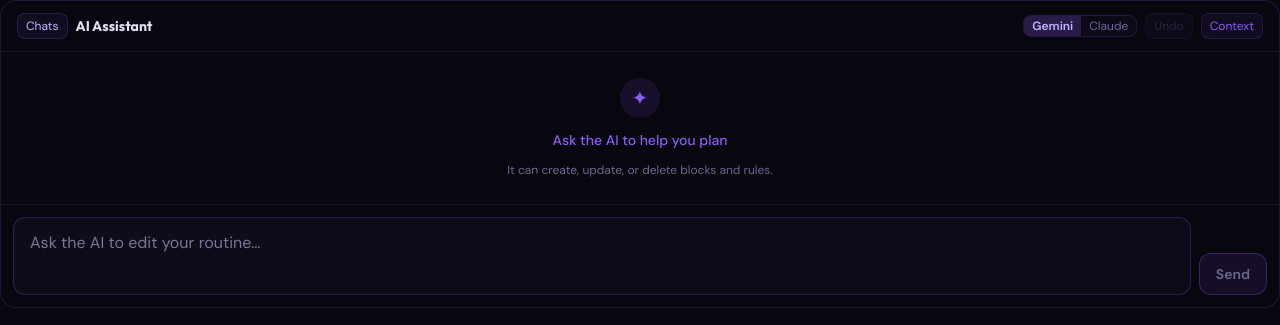
Test: ChatPanel › shows a streaming assistant bubble after sending
The width and height of the screenshot is (1280, 325).
Type "Help me plan" into the text box named "message input" at (602, 256), box [13,217,1191,295]
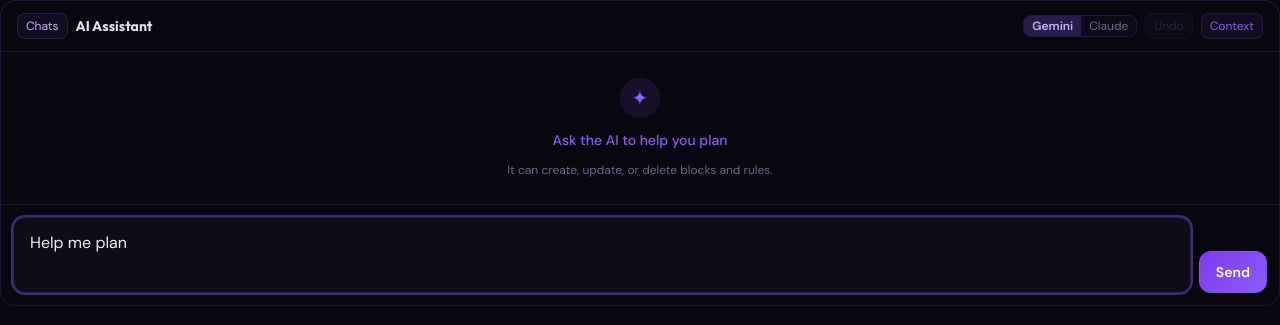
Press Enter
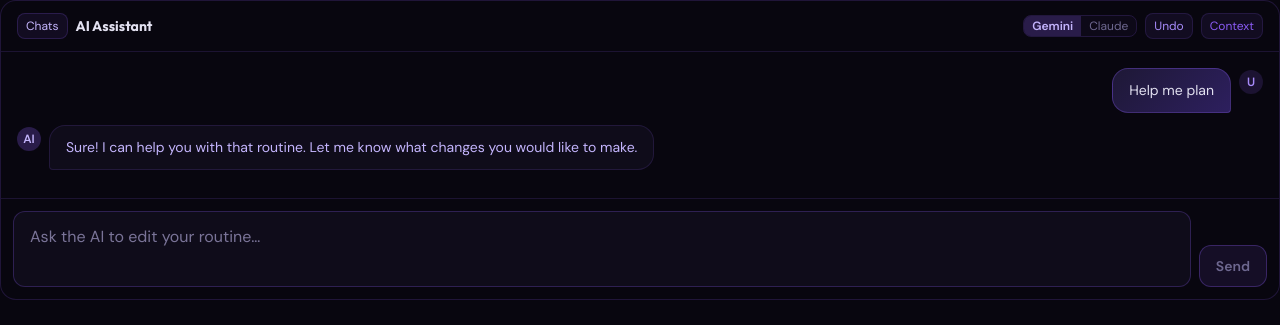
Expected: the text "Sure!" is shown, [66,138,637,156]
